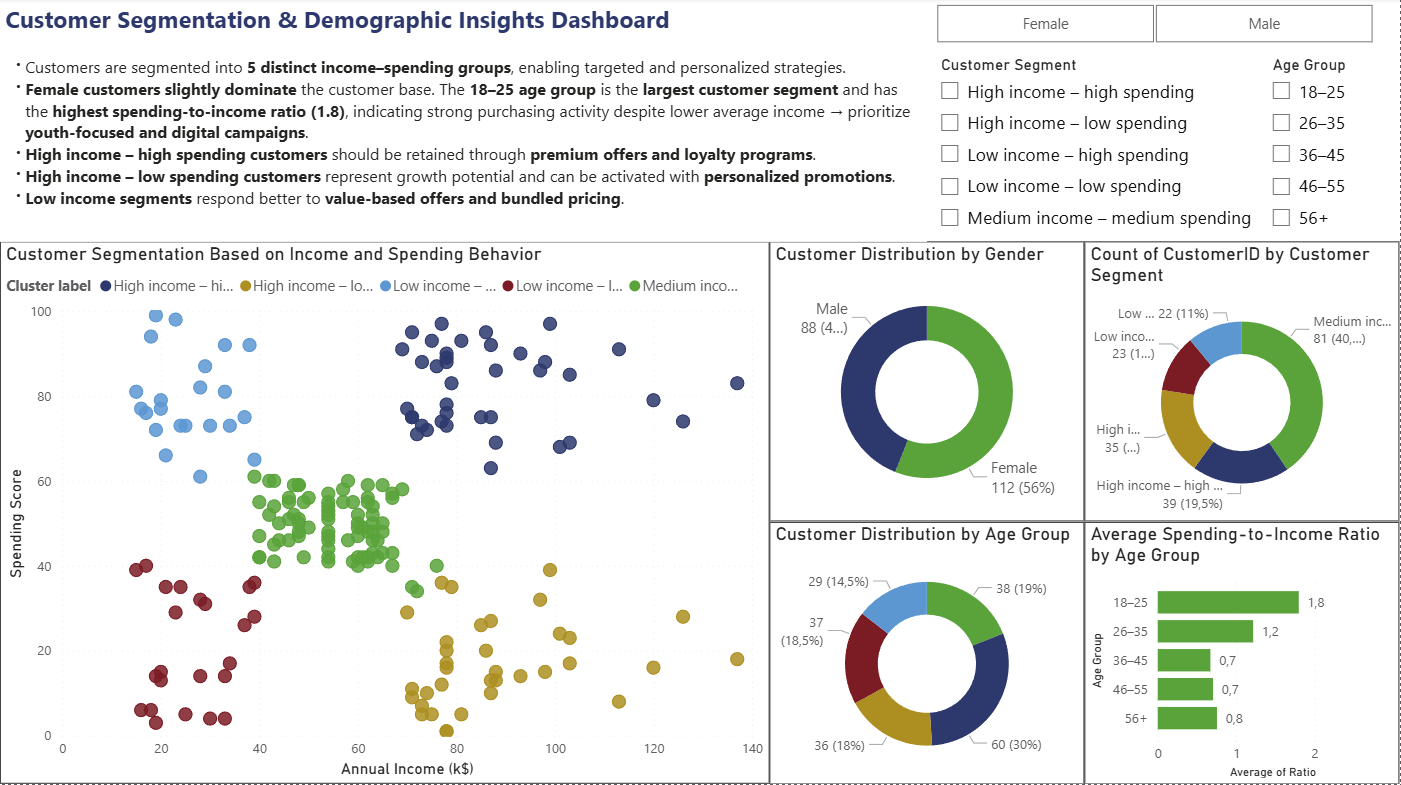

Layout of this report page (visuals, bound fields, positions):
{"tool":"powerbi","page":{"name":"Page 1","canvas":[1280,720],"ordinal":0},"visuals":[{"type":"donutChart","title":"Customer Distribution by Age Group","fields":{"Category":["data.Age Group"],"Y":["CountNonNull(K_Means_Shop_Customers.CustomerID)"]},"box":[704,480,288,240],"z":0},{"type":"slicer","fields":{"Values":["data.Age Group"]},"box":[1152,48,128,176],"z":1000},{"type":"slicer","fields":{"Values":["data.Customer Segment"]},"box":[848,48,304,176],"z":2000},{"type":"donutChart","title":"Customer Distribution by Gender","fields":{"Category":["data.Genre"],"Y":["CountNonNull(data.CustomerID)"]},"box":[704,224,288,256],"z":3000},{"type":"scatterChart","title":"Customer Segmentation Based on Income and Spending Behavior","fields":{"X":["Sum(data.Annual_Income_k)"],"Y":["Sum(data.Spending_Score_1_100)"],"Category":["data.CustomerID"],"Series":["data.Customer Segment"]},"box":[0,224,704,496],"z":4000},{"type":"clusteredBarChart","title":"Average Spending-to-Income Ratio by Age Group","fields":{"Y":["Avg(data.Ratio)"],"Category":["data.Age Group"]},"box":[992,480,288,240],"z":5000},{"type":"textbox","box":[0,0,704,48],"z":7000},{"type":"donutChart","fields":{"Category":["data.Customer Segment"],"Y":["CountNonNull(data.CustomerID)"]},"box":[992,224,288,256],"z":7001},{"type":"slicer","fields":{"Values":["data.Genre"]},"box":[832,0,448,48],"z":7002},{"type":"textbox","box":[0,48,848,176],"z":7003}]}

Visuals, with their boxes in screenshot pixels (x1, y1, x2, y2), scaled from the page's 1280x720 canvas onto the 1401x785 screenshot:
"Customer Distribution by Age Group" donutChart: Rect(771, 523, 1086, 784)
slicer - data.Age Group: Rect(1261, 52, 1400, 244)
slicer - data.Customer Segment: Rect(928, 52, 1261, 244)
"Customer Distribution by Gender" donutChart: Rect(771, 244, 1086, 523)
"Customer Segmentation Based on Income and Spending Behavior" scatterChart: Rect(0, 244, 771, 784)
"Average Spending-to-Income Ratio by Age Group" clusteredBarChart: Rect(1086, 523, 1400, 784)
textbox: Rect(0, 0, 771, 52)
donutChart - data.Customer Segment x CountNonNull(data.CustomerID): Rect(1086, 244, 1400, 523)
slicer - data.Genre: Rect(911, 0, 1400, 52)
textbox: Rect(0, 52, 928, 244)
